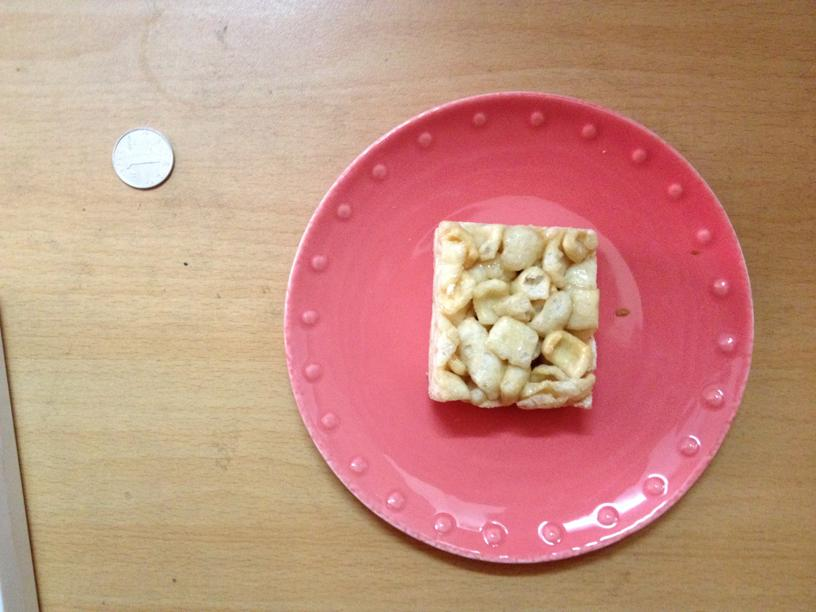coin: (111, 128, 171, 188)
sachima: (424, 221, 598, 410)
